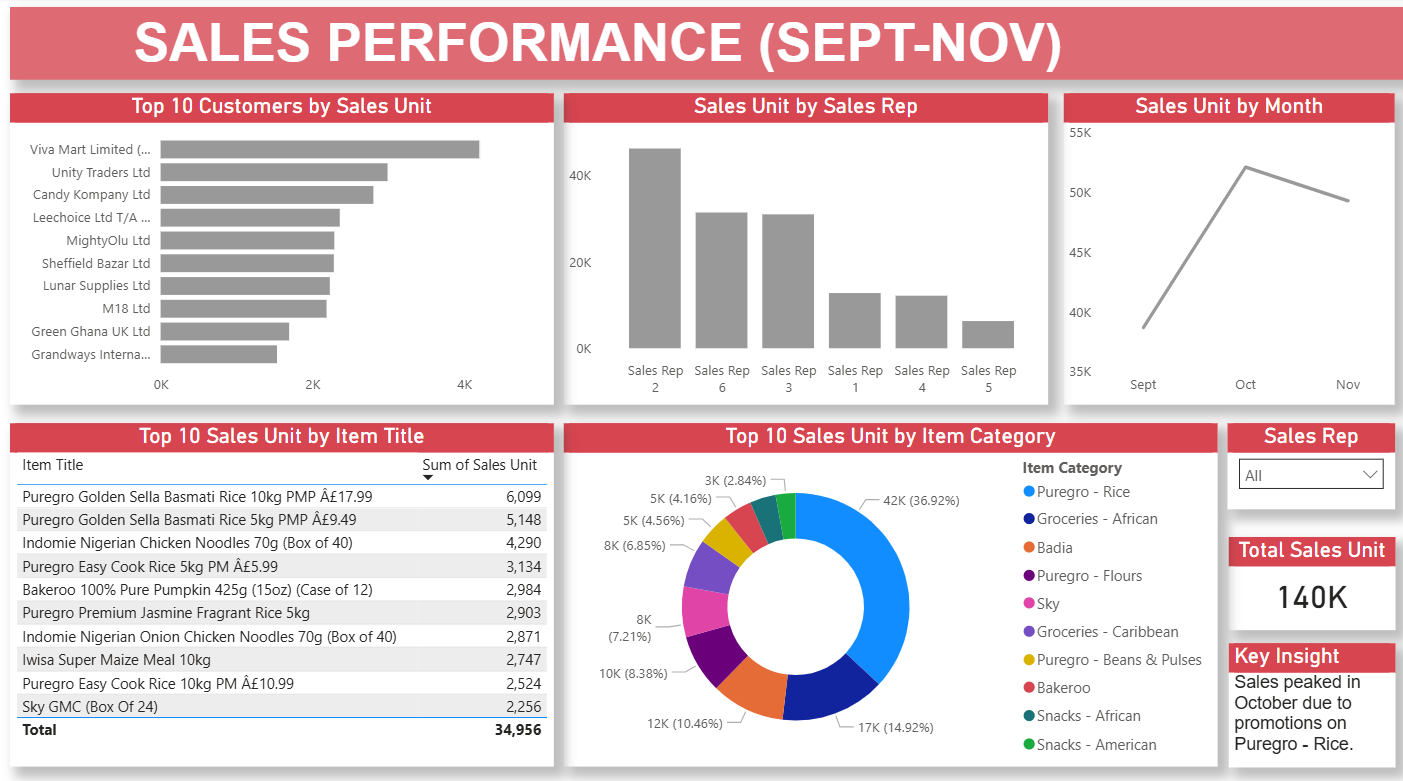

This screenshot's page, from the dashboard's own definition file:
{"tool":"powerbi","page":{"name":"Page 1","canvas":[1280,720],"ordinal":0},"visuals":[{"type":"shape","box":[13.7,15.1,1203.4,86.4],"z":0},{"type":"textbox","box":[13.7,8.7,1266.4,65.9],"z":1000},{"type":"card","title":"Total Sales Unit","fields":{"Values":["Sum(Item Category Report.Sales Unit)"]},"box":[1112.8,487.2,150,83.7],"z":2000},{"type":"lineChart","title":"Sales Unit by Month","fields":{"Y":["Sum(Item Category Report.Sales Unit)"],"Category":["Item Category Report.Month"]},"box":[964.1,87.1,298.6,281.1],"z":3000},{"type":"clusteredColumnChart","title":"Sales Unit by Sales Rep","fields":{"Category":["Item Category Report.Sales Rep"],"Y":["Sum(Item Category Report.Sales Unit)"]},"box":[512.5,87.1,436.6,281.1],"z":4000},{"type":"donutChart","title":"Top 10 Sales Unit by Item Category","fields":{"Category":["Item Category Report.Item Category"],"Y":["Sum(Item Category Report.Sales Unit)"]},"box":[512.5,384.4,589.6,309.7],"z":5000},{"type":"tableEx","title":"Top 10 Sales Unit by Item Title","fields":{"Values":["Item Title Report.Item Title","Sum(Item Title Report.Sales Unit)"]},"box":[13.7,384.4,490.1,309.7],"z":6000},{"type":"clusteredBarChart","title":"Top 10 Customers by Sales Unit","fields":{"Category":["Item Title Report.Customer Name"],"Y":["Sum(Item Title Report.Sales Unit)"]},"box":[13.7,87.1,490.1,281.1],"z":7000},{"type":"textbox","title":"Key Insight","box":[1112.8,582.6,150,111.6],"z":8000},{"type":"slicer","title":"Sales Rep","fields":{"Values":["Item Category Report.Sales Rep"]},"box":[1111.6,384.9,151.2,77.9],"z":8001}]}

Visuals, with their boxes in screenshot pixels (x1, y1, x2, y2), scaled from the page's 1280x720 canvas onto the 1403x781 screenshot:
shape: Rect(15, 16, 1334, 110)
textbox: Rect(15, 9, 1402, 81)
"Total Sales Unit" card: Rect(1220, 528, 1384, 619)
"Sales Unit by Month" lineChart: Rect(1057, 94, 1384, 399)
"Sales Unit by Sales Rep" clusteredColumnChart: Rect(562, 94, 1040, 399)
"Top 10 Sales Unit by Item Category" donutChart: Rect(562, 417, 1208, 753)
"Top 10 Sales Unit by Item Title" tableEx: Rect(15, 417, 552, 753)
"Top 10 Customers by Sales Unit" clusteredBarChart: Rect(15, 94, 552, 399)
"Key Insight" textbox: Rect(1220, 632, 1384, 753)
"Sales Rep" slicer: Rect(1218, 418, 1384, 502)
